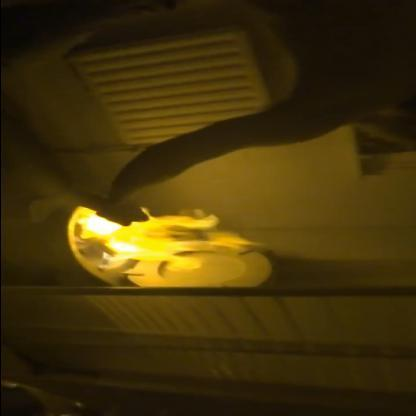Fire: (68, 204, 240, 272)
